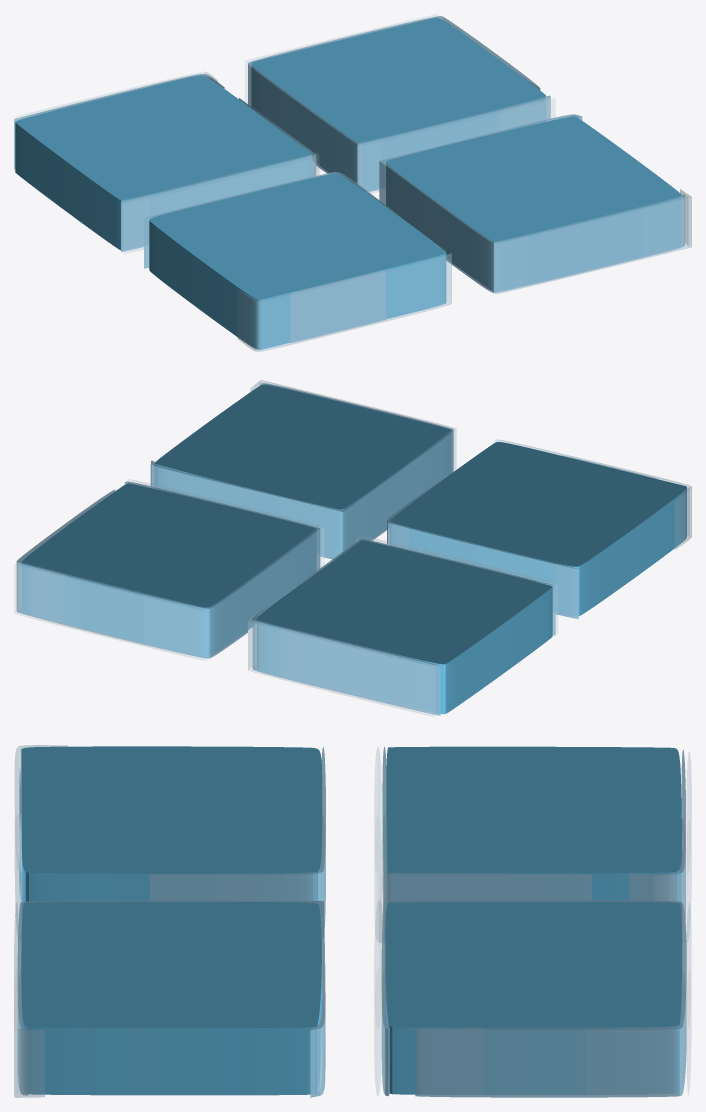
File: windows.glb
3 renders of one model, top to bottom at view 1: azimuth 30°, elevation 25°; view 2: azimuth 150°, elevation 25°; view 3: azimuth 270°, elevation 25°, orthographic. The views are drawn at different scales.
Visible parts, largest first — view 1: Node2, Node1, Node3, Node4, Node6, Node15, Node5, Node16, Node7, Node10, Node11, Node12 (+3 smaller); view 2: Node4, Node1, Node2, Node3, Node5, Node6, Node9, Node13, Node14, Node8, Node15, Node7 (+3 smaller); view 3: Node2, Node4, Node1, Node3, Node5, Node7, Node8, Node6, Node16, Node9, Node14, Node11 (+3 smaller).
Boxes of the visible parts, left/top/right/bottom form: Node2: left=386, top=116, right=681, bottom=290; Node1: left=149, top=173, right=446, bottom=349; Node3: left=15, top=75, right=311, bottom=250; Node4: left=251, top=17, right=545, bottom=190; Node6: left=379, top=114, right=684, bottom=292; Node15: left=237, top=253, right=451, bottom=351; Node5: left=248, top=16, right=550, bottom=191; Node16: left=494, top=189, right=691, bottom=294; Node7: left=121, top=98, right=316, bottom=251; Node10: left=290, top=270, right=385, bottom=342; Node11: left=123, top=152, right=319, bottom=253; Node12: left=357, top=98, right=555, bottom=193; Node4: left=22, top=483, right=316, bottom=656; Node1: left=390, top=442, right=686, bottom=616; Node2: left=155, top=384, right=451, bottom=557; Node3: left=257, top=540, right=552, bottom=714; Node5: left=16, top=481, right=320, bottom=658; Node6: left=150, top=383, right=453, bottom=559; Node9: left=252, top=605, right=440, bottom=715; Node13: left=14, top=564, right=205, bottom=660; Node14: left=248, top=612, right=435, bottom=716; Node8: left=387, top=475, right=578, bottom=618; Node15: left=495, top=440, right=691, bottom=549; Node7: left=284, top=538, right=555, bottom=635; Node2: left=21, top=902, right=321, bottom=1095; Node4: left=385, top=902, right=681, bottom=1094; Node1: left=21, top=746, right=322, bottom=902; Node3: left=386, top=746, right=681, bottom=902; Node5: left=381, top=900, right=686, bottom=1097; Node7: left=382, top=746, right=591, bottom=907; Node8: left=150, top=747, right=325, bottom=927; Node6: left=17, top=900, right=325, bottom=1097; Node16: left=14, top=902, right=44, bottom=1097; Node9: left=629, top=749, right=685, bottom=919; Node14: left=655, top=752, right=691, bottom=941; Node11: left=374, top=747, right=390, bottom=942.
Size of the model in its own units: 36.37 by 4 by 36.5.
